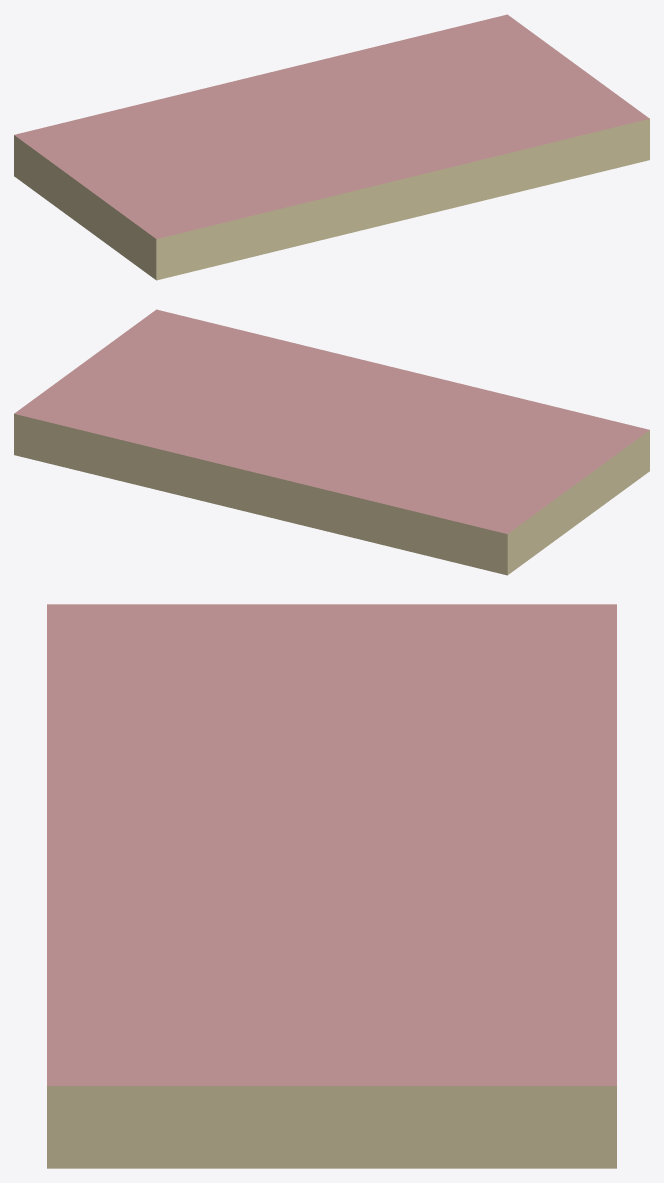
The model's file is open_to_below.gltf.
3 renders of one model, top to bottom at view 1: azimuth 30°, elevation 25°; view 2: azimuth 150°, elevation 25°; view 3: azimuth 270°, elevation 25°, orthographic. The views are drawn at different scales.
Parts seen in each view (by area): view 1: Face 13, Face 19, Face 15, Face 3, Face 21, Face 9, Face 16, Face 4; view 2: Face 13, Face 19, Face 17, Face 5, Face 23, Face 11, Face 16, Face 4; view 3: Face 13, Face 19, Face 20, Face 8.
Boxes of the visible parts, x1,y1,x2,y2 form: Face 13: (14,74,402,238); Face 19: (261,14,649,178); Face 15: (156,179,403,259); Face 3: (156,199,403,280); Face 21: (403,119,649,199); Face 9: (403,139,649,219); Face 16: (14,135,156,259); Face 4: (14,156,156,279); Face 13: (261,369,649,533); Face 19: (14,309,402,473); Face 17: (260,474,507,554); Face 5: (260,494,507,575); Face 23: (14,414,260,494); Face 11: (14,434,260,514); Face 16: (507,430,649,554); Face 4: (507,451,649,574); Face 13: (47,604,616,845); Face 19: (47,845,616,1085); Face 20: (47,1086,616,1127); Face 8: (47,1127,616,1168).
Bounding box in the file's own units: 60.96 × 4.88 × 30.48.
